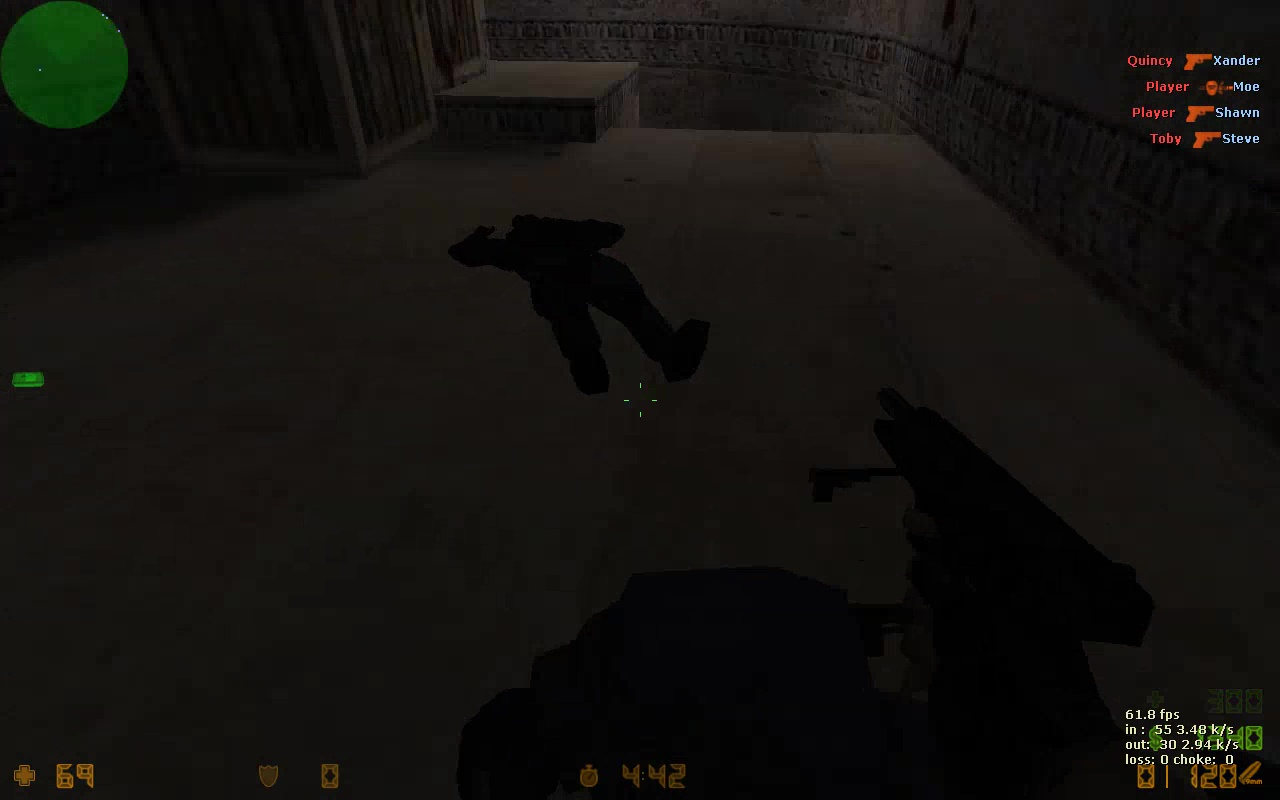dead: (441, 212, 712, 401)
